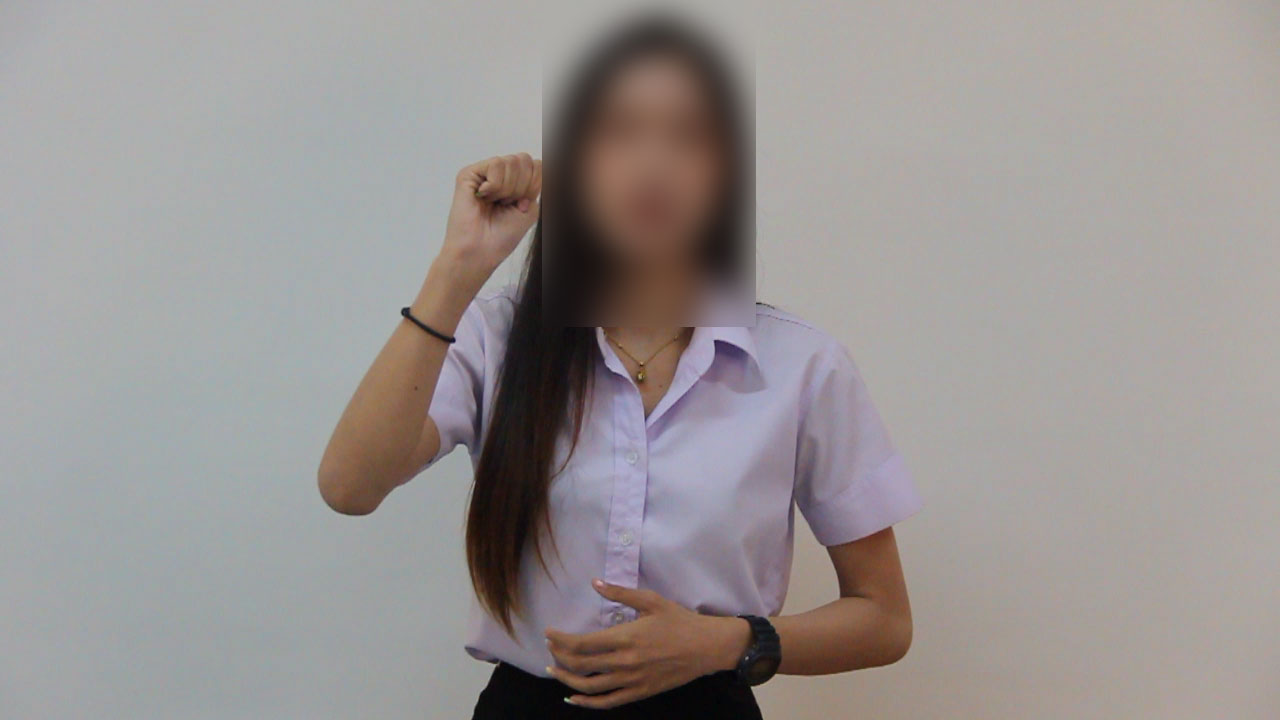sor: (436, 133, 555, 282)
